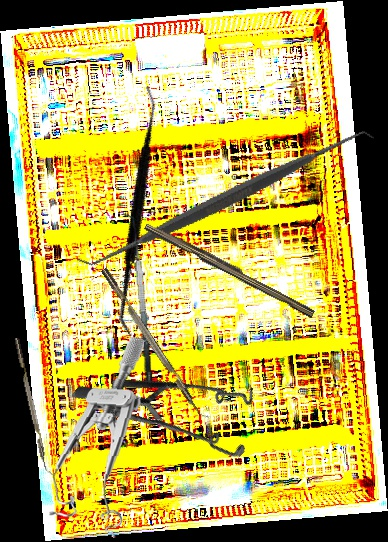Chopper: (100, 262, 214, 424), (14, 336, 55, 479)
Scalpel Handle: (142, 219, 318, 319)
Spatula Surgical: (75, 45, 376, 353), (35, 84, 244, 338), (119, 212, 155, 387)
Speculum: (69, 300, 281, 511), (48, 333, 145, 539)
